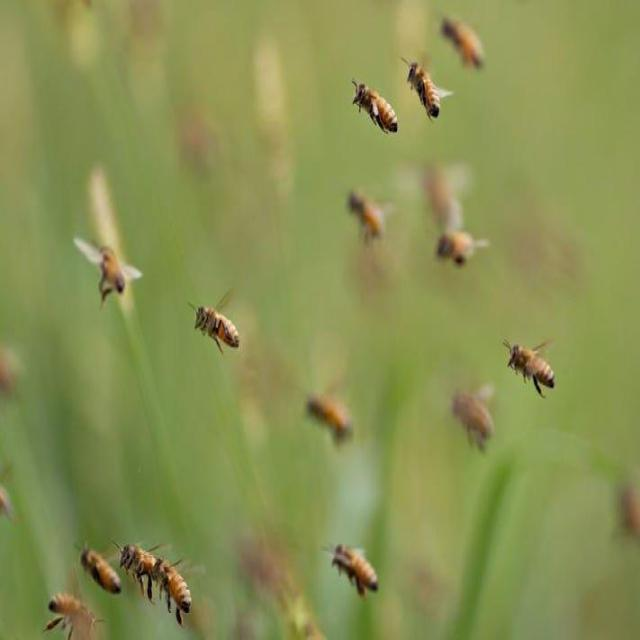honeybee: (189, 270, 251, 390), (492, 295, 553, 413), (339, 87, 406, 181), (322, 536, 398, 612), (32, 573, 98, 640), (81, 531, 129, 619), (90, 220, 131, 318), (145, 540, 194, 608), (459, 19, 503, 91), (408, 70, 440, 150), (116, 526, 141, 558)
